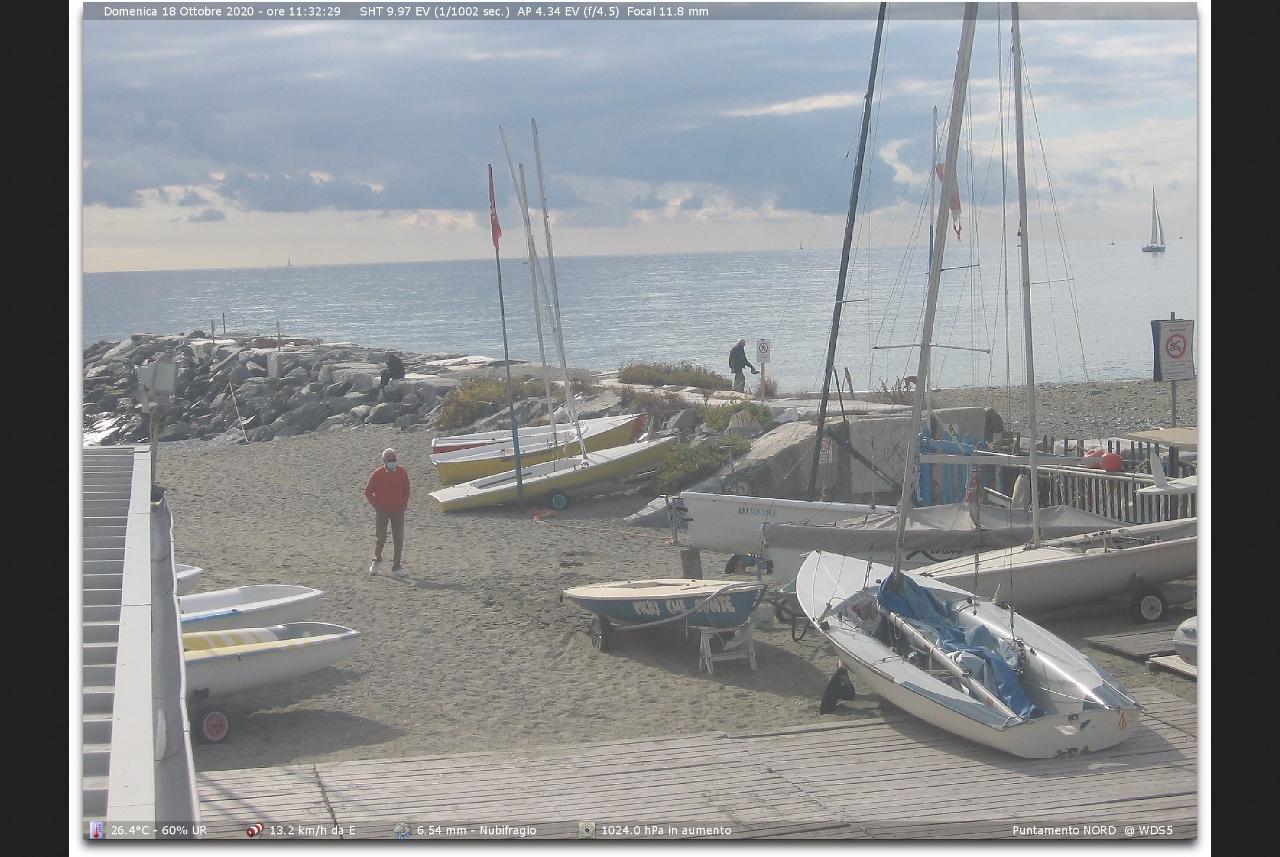no: (488, 167, 504, 251)
